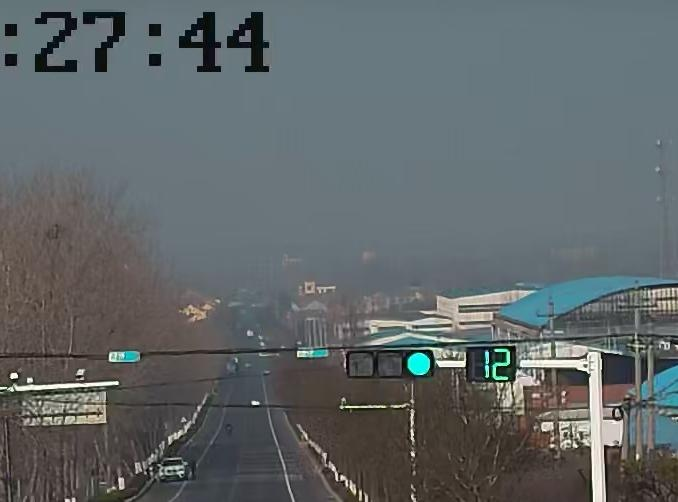green: (406, 351, 434, 376)
greentime: (473, 347, 517, 380)
